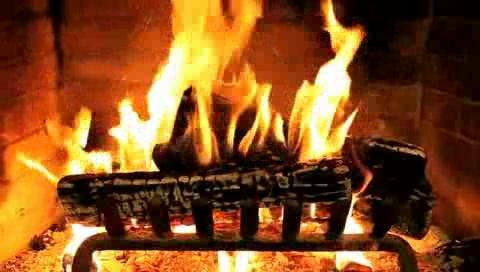fire: (133, 3, 356, 163)
